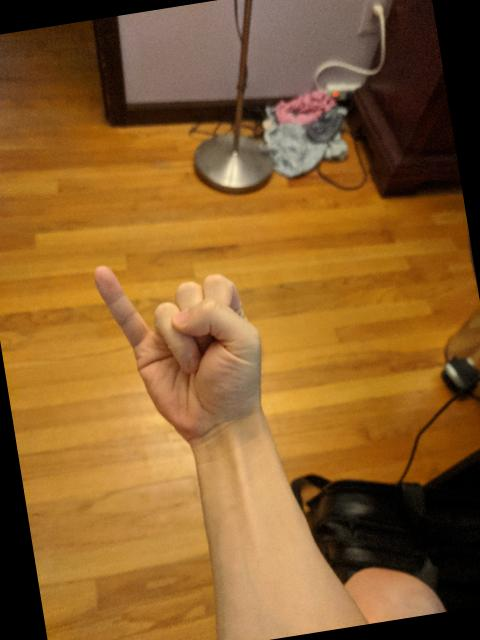I: (87, 238, 281, 460)
